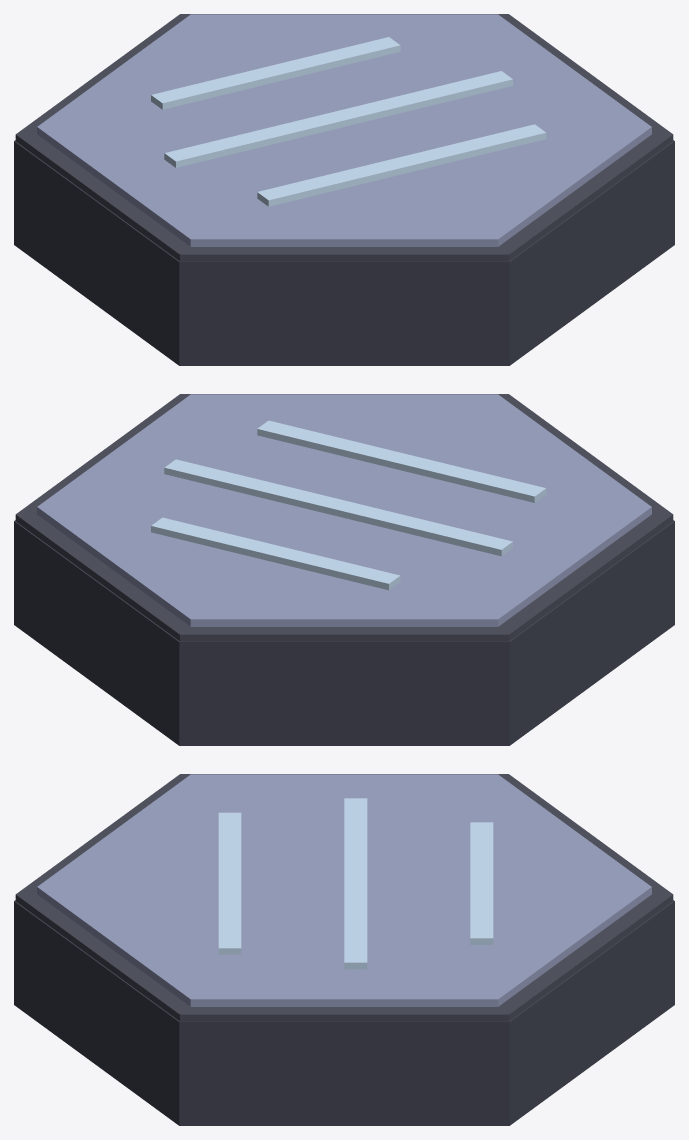
The model's file is water.glb.
The picture shows the model from 3 angles, top to bottom: view 1: azimuth 30°, elevation 25°; view 2: azimuth 150°, elevation 25°; view 3: azimuth 270°, elevation 25°; orthographic projection.
Visible parts, largest first — view 1: water; view 2: water; view 3: water.
Boxes of the visible parts, x1,y1,x2,y2 form: water: [14, 14, 674, 365]; water: [14, 394, 674, 745]; water: [14, 774, 674, 1125].
Bounding box in the file's own units: 1 × 0.24 × 1.15.
1 material, 1 textured.
